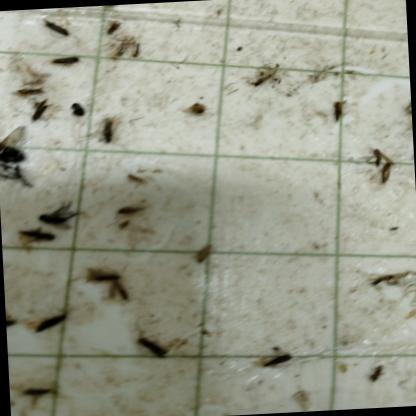prays_oleae: (32, 307, 70, 328)
